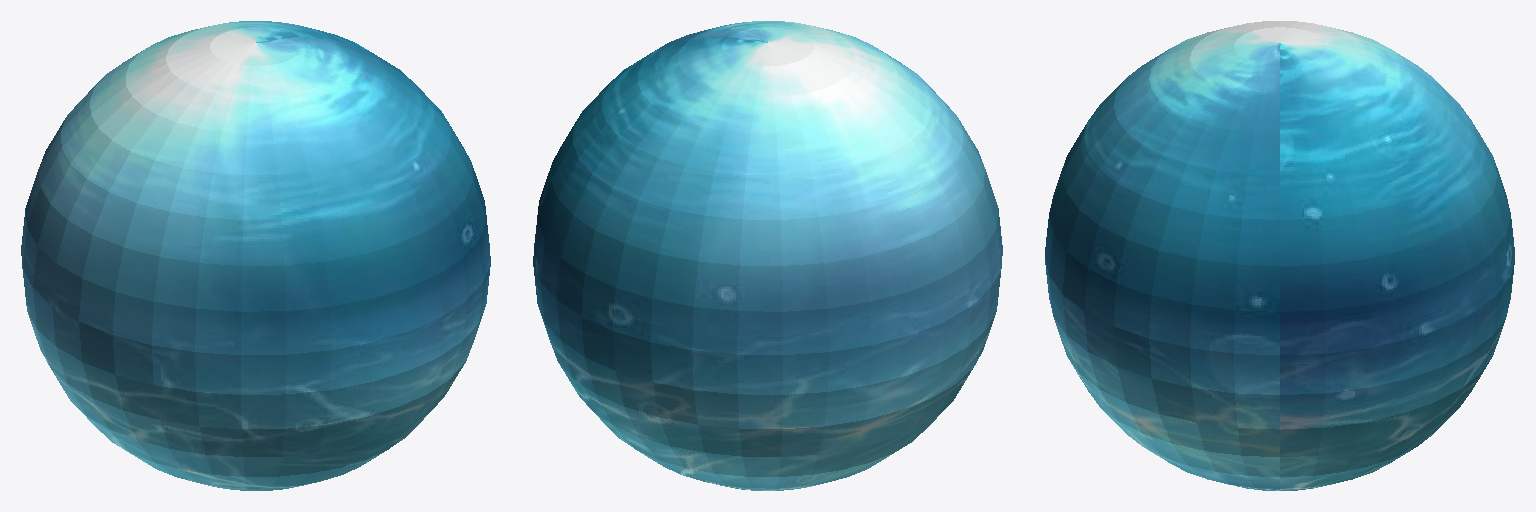
The picture shows the model from 3 angles: view 1: azimuth 30°, elevation 25°; view 2: azimuth 150°, elevation 25°; view 3: azimuth 270°, elevation 25°; orthographic projection.
Visible parts, largest first — view 1: 球; view 2: 球; view 3: 球.
Boxes of the visible parts, box(x1,y1,x2,y2) form: 球: box(21, 21, 490, 490); 球: box(533, 21, 1002, 490); 球: box(1045, 21, 1514, 490).
Bounding box in the file's own units: 2 × 2 × 2.
Materials: 1 (1 with a texture image).